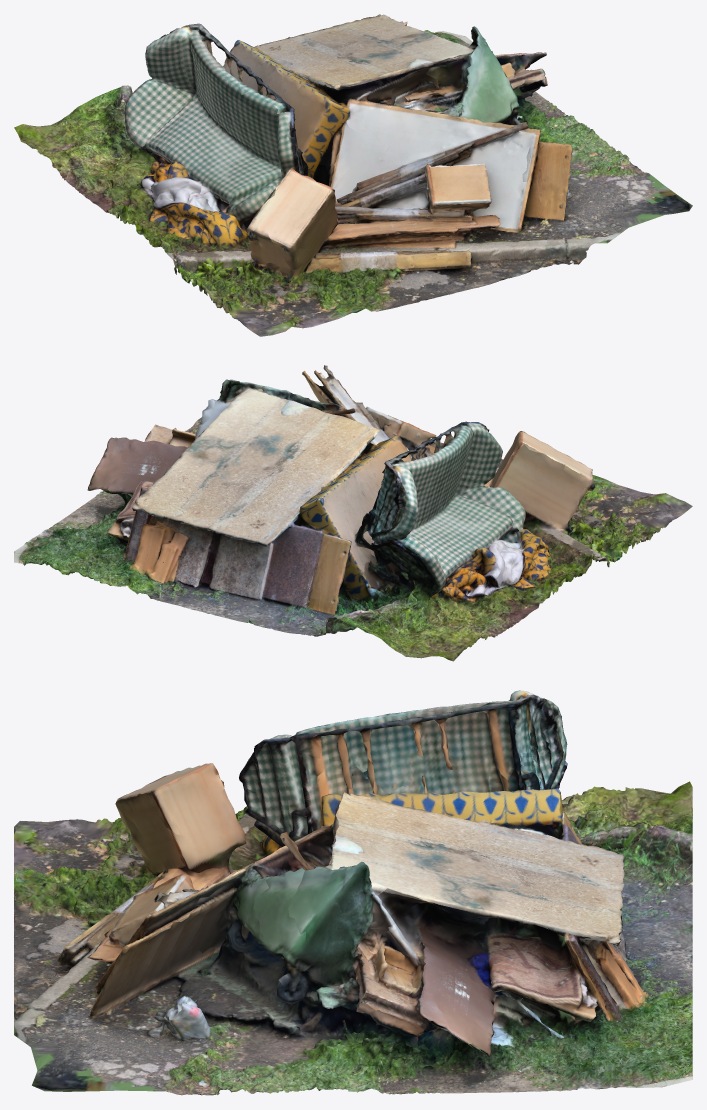
Rendered from StreetGarbage.fbx.
3 views of the same model, one above another, from view 1: azimuth 30°, elevation 25°; view 2: azimuth 150°, elevation 25°; view 3: azimuth 270°, elevation 25° (orthographic). The views are drawn at different scales.
Parts seen in each view (by area): view 1: StreetGarbage; view 2: StreetGarbage; view 3: StreetGarbage.
Boxes of the visible parts, <box> form: StreetGarbage: <box>14,14,692,336</box>; StreetGarbage: <box>14,365,692,661</box>; StreetGarbage: <box>14,690,692,1095</box>.
Size of the model in its own units: 400 by 132 by 392.
